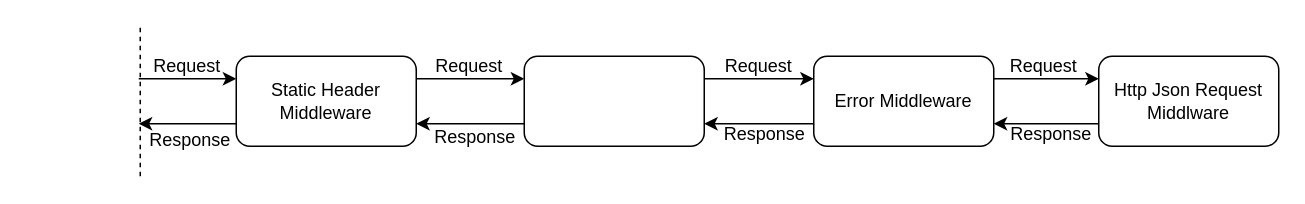
Image size: 1305x204. Some labels were removed from this diagram. Here are the shapes that lost their labels. From the top down, the centre of each, then its label:
At [83,101]: "Caller".
At [613,100]: "Login Middleware (optional)".
